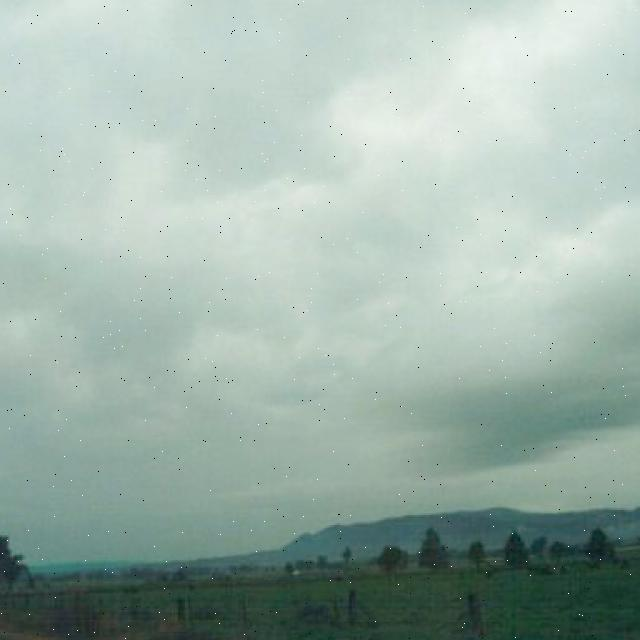Ns: (1, 25, 640, 450)
